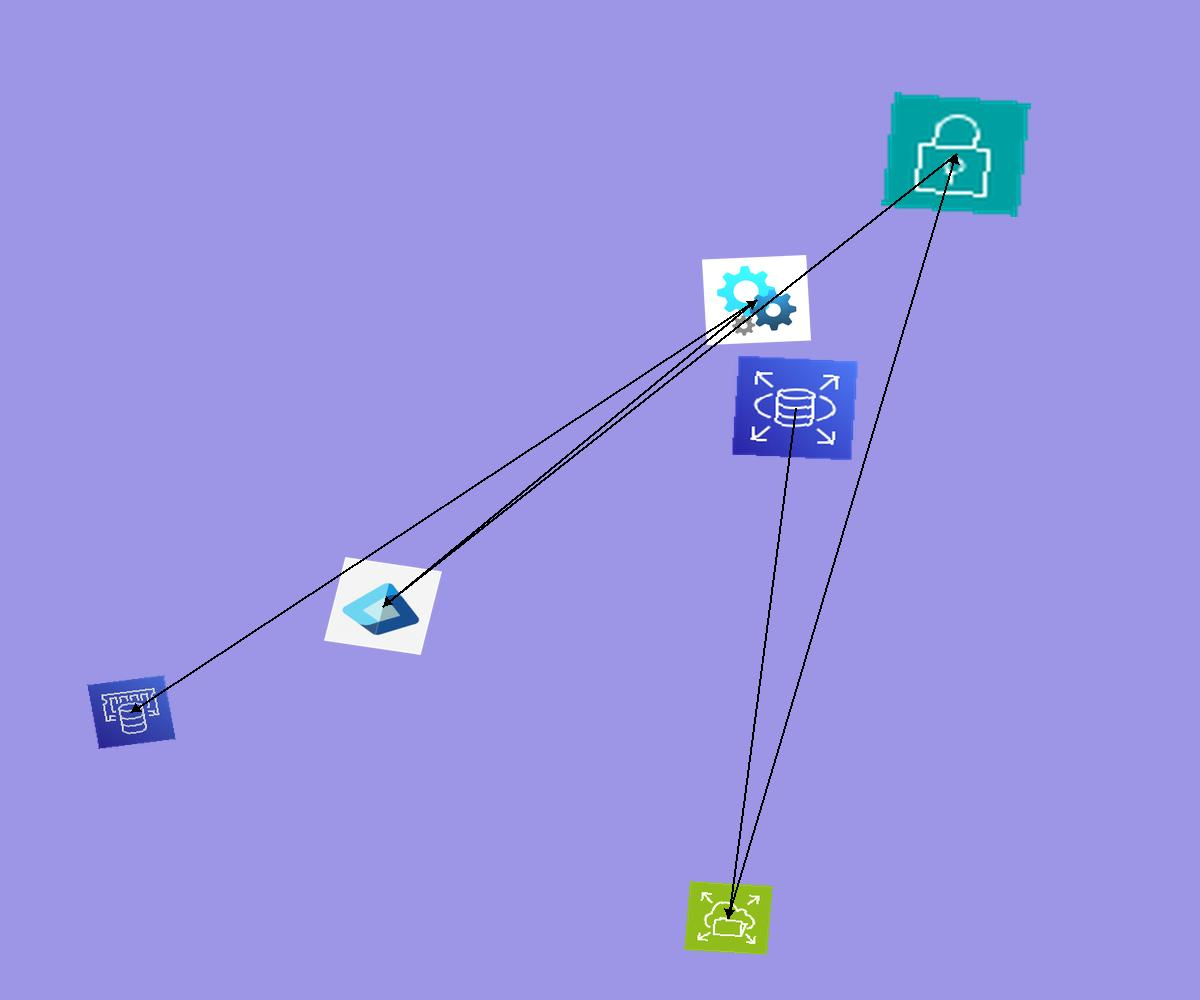AWS-EFS: (684, 881, 773, 955)
AWS-ElastiCache: (87, 675, 176, 749)
AWS-Private-subnet: (881, 92, 1031, 217)
AWS-RDS: (731, 355, 859, 461)
Azure_api: (702, 255, 811, 345)
Azure_microsoft_entra: (324, 557, 442, 655)
